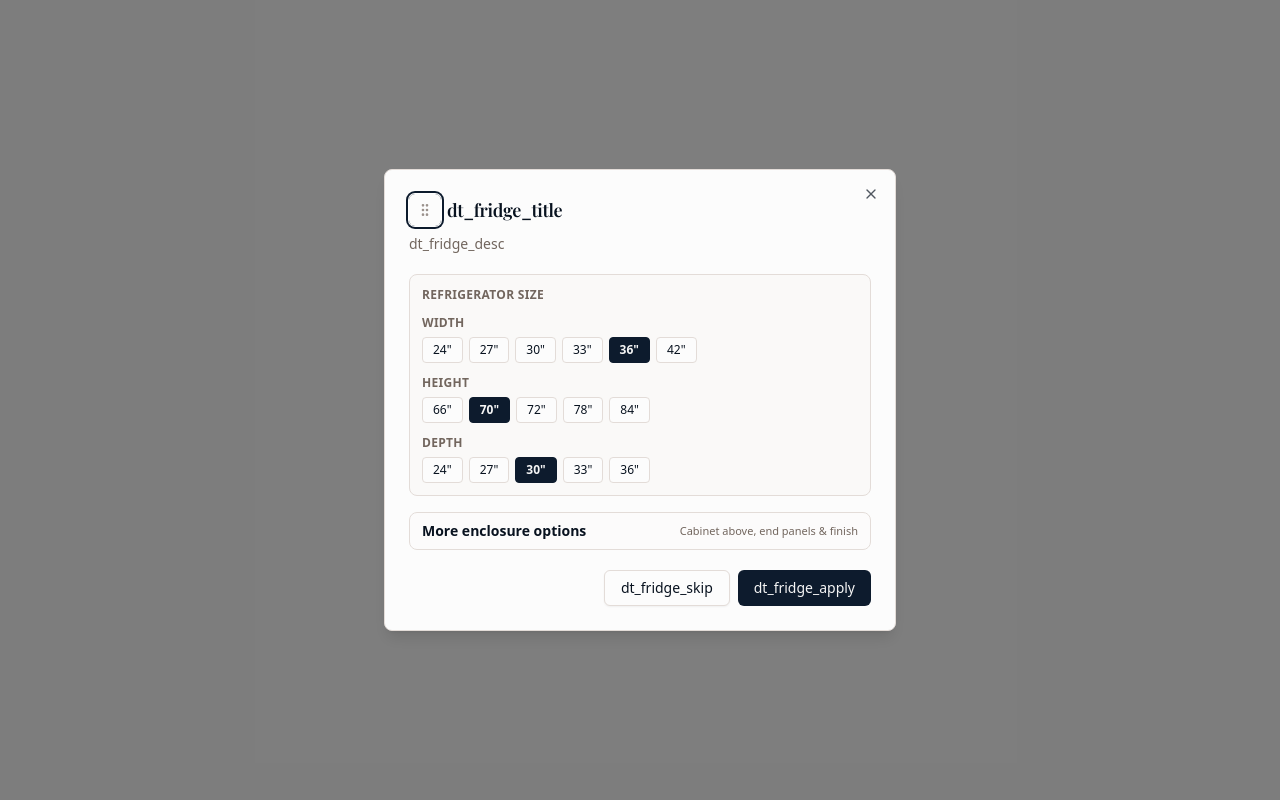
Test case: RefrigeratorOptionsDialog end-panel defaults › keeps enclosure choices compact until More enclosure options is opened
Expected: the heading named "Open optional refrigerator enclosure settings" is shown, [422, 521, 858, 541]
Click the text "More enclosure options" at (504, 531), box [422, 521, 586, 541]
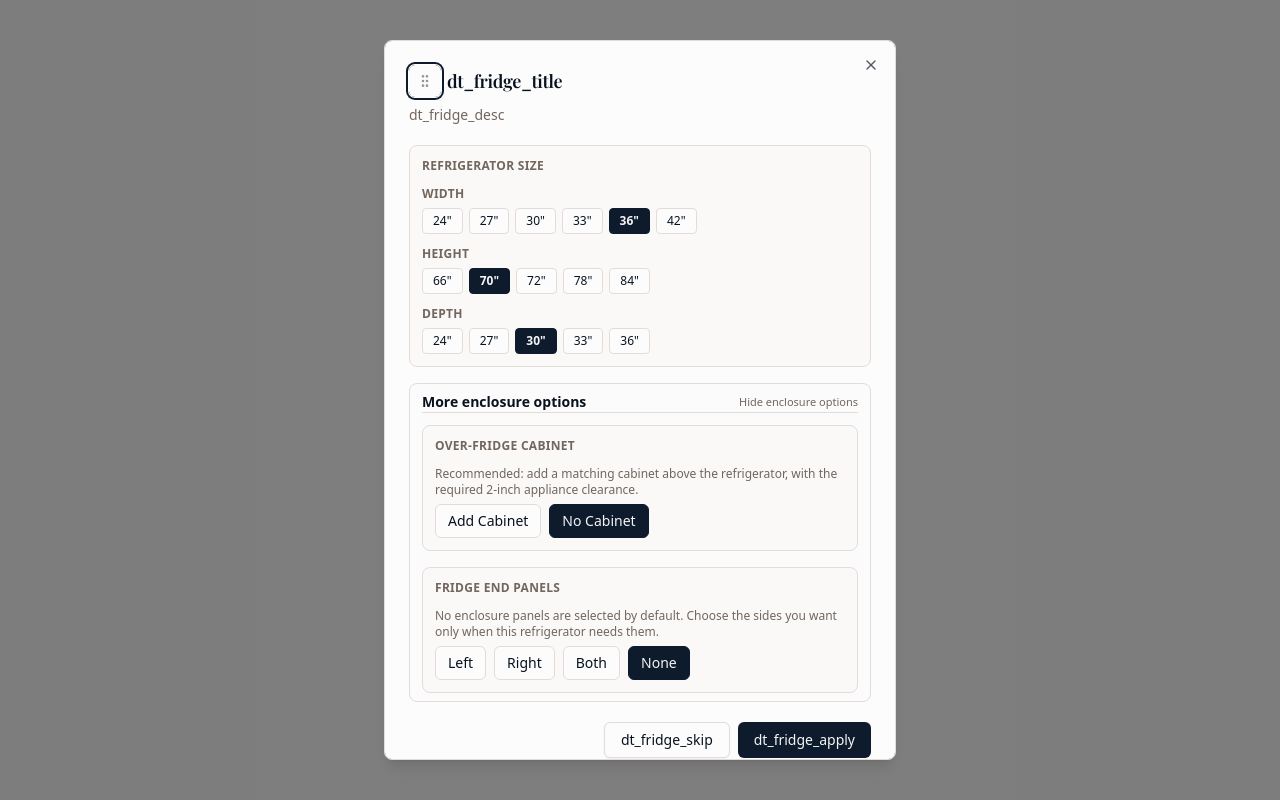
Now the button "Add Cabinet" is shown, box [435, 504, 541, 538]
Now the button "Both" is shown
Click the button "Both" at (591, 663), box [563, 646, 620, 680]
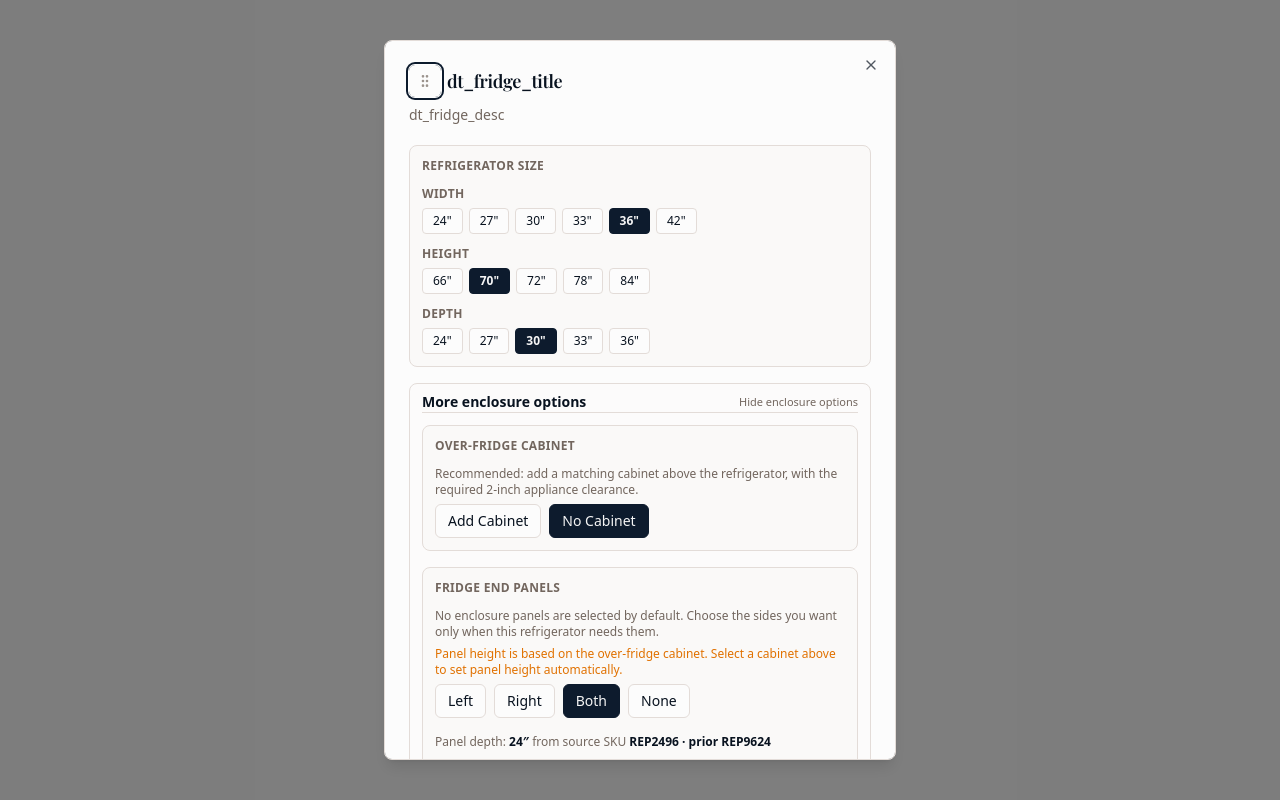
Now the text "Panel depth: 24″ from source SKU REP2496 · prior REP9624" is shown, box [435, 733, 771, 750]
